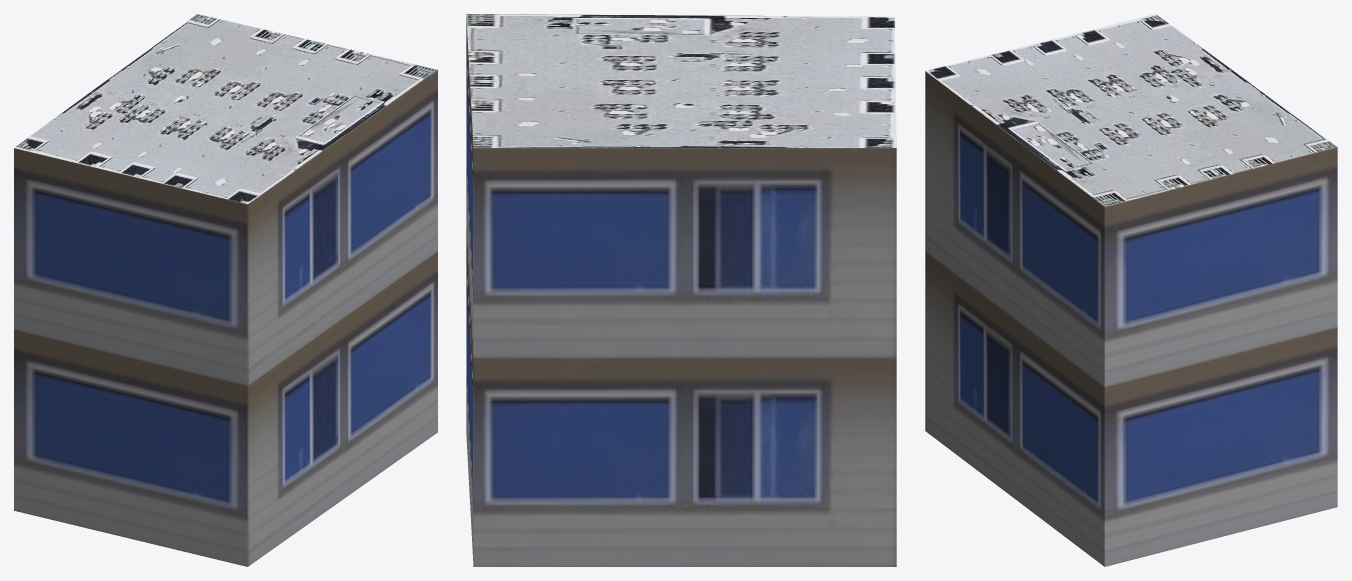
File: ResTex__1498.fbx
3 views of the same model, side by side, from view 1: azimuth 30°, elevation 25°; view 2: azimuth 150°, elevation 25°; view 3: azimuth 270°, elevation 25° (orthographic). The views are drawn at different scales.
Parts seen in each view (by area): view 1: CityEngineMaterial_23_m, CityEngineMaterial_m; view 2: CityEngineMaterial_23_m, CityEngineMaterial_m; view 3: CityEngineMaterial_23_m, CityEngineMaterial_m.
Part boxes in pixels (x1=…): CityEngineMaterial_23_m: x1=14, y1=70, x2=437, y2=566; CityEngineMaterial_m: x1=14, y1=14, x2=437, y2=204; CityEngineMaterial_23_m: x1=466, y1=17, x2=896, y2=566; CityEngineMaterial_m: x1=466, y1=14, x2=896, y2=147; CityEngineMaterial_23_m: x1=925, y1=71, x2=1337, y2=566; CityEngineMaterial_m: x1=926, y1=14, x2=1336, y2=206.
Size of the model in its own units: 6.89 by 6 by 6.23.
2 materials, 2 textured.
